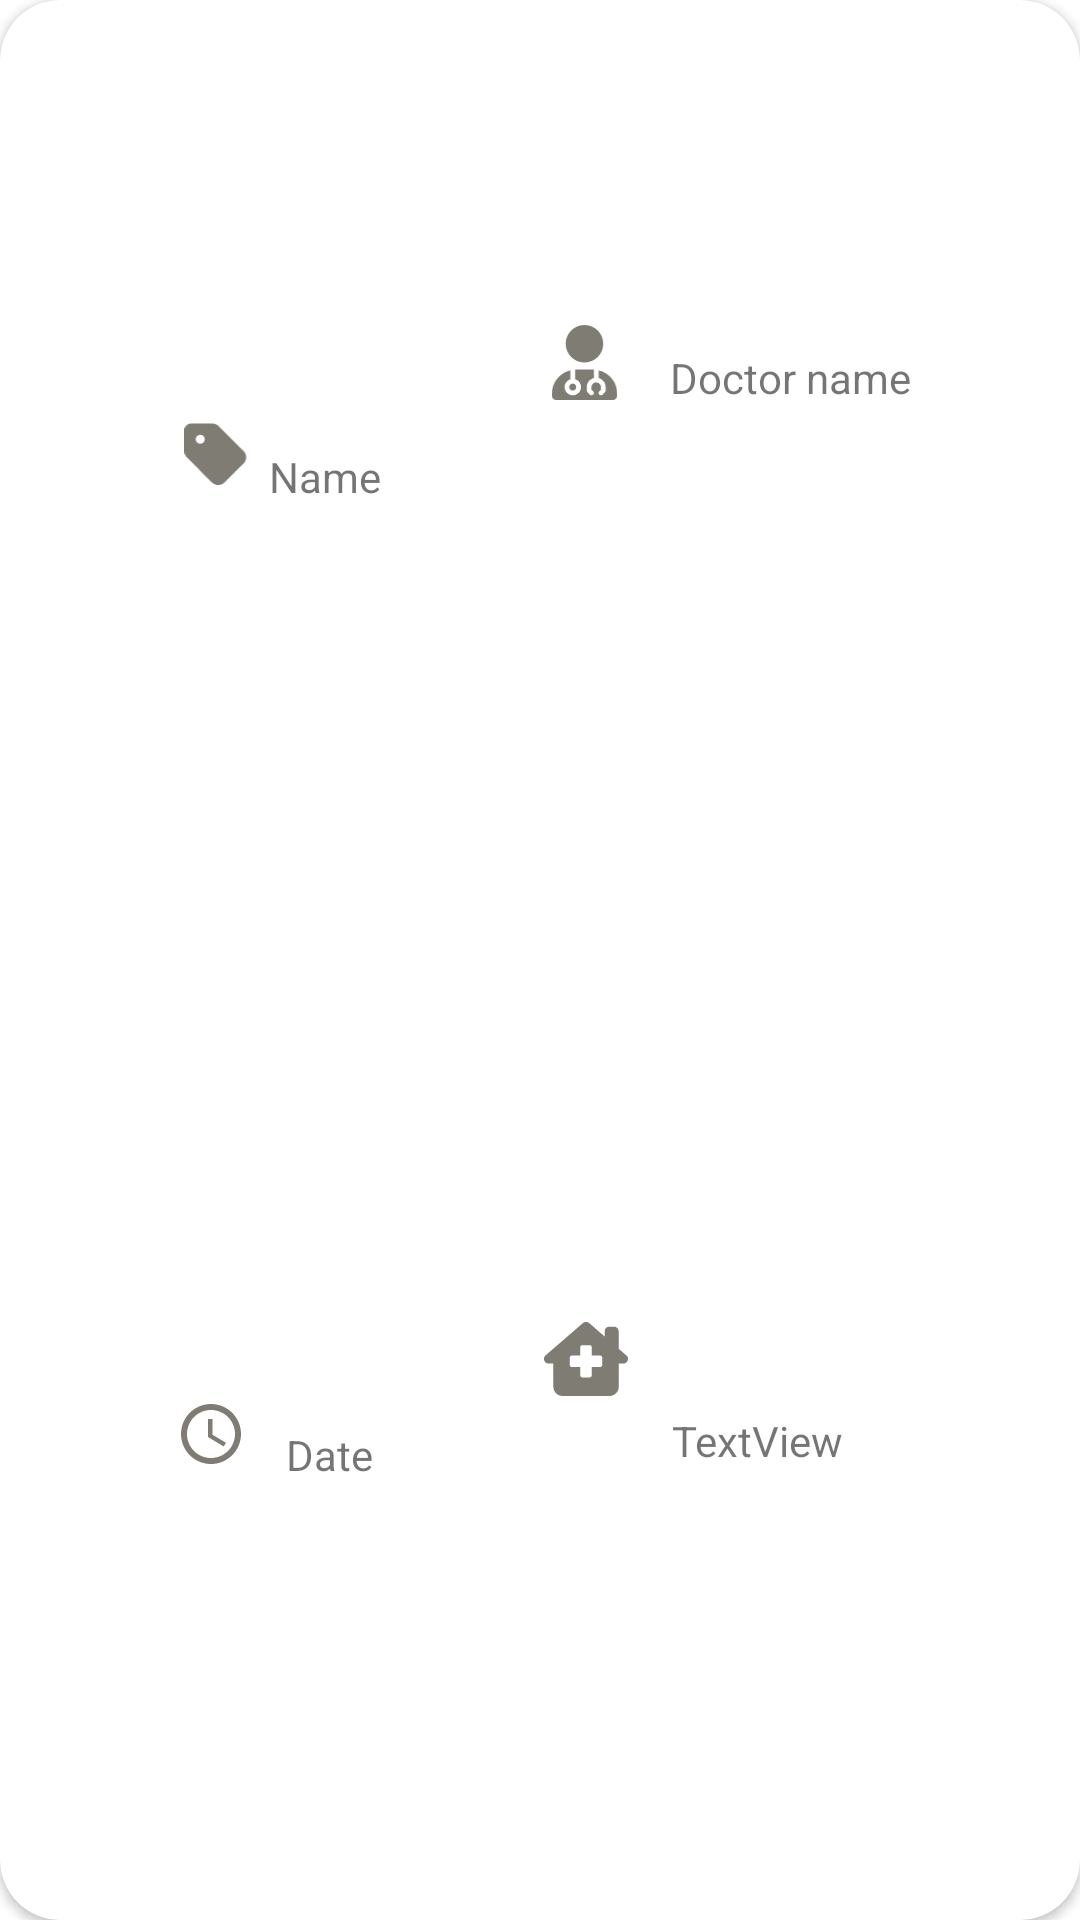

Where icons sit on this 1080px×1920px app screen, as (x1, y1, x2, y2):
access time: (181, 1404, 241, 1464)
house chimney medical: (544, 1322, 628, 1396)
tag: (184, 423, 247, 485)
user doctor: (552, 325, 617, 400)
